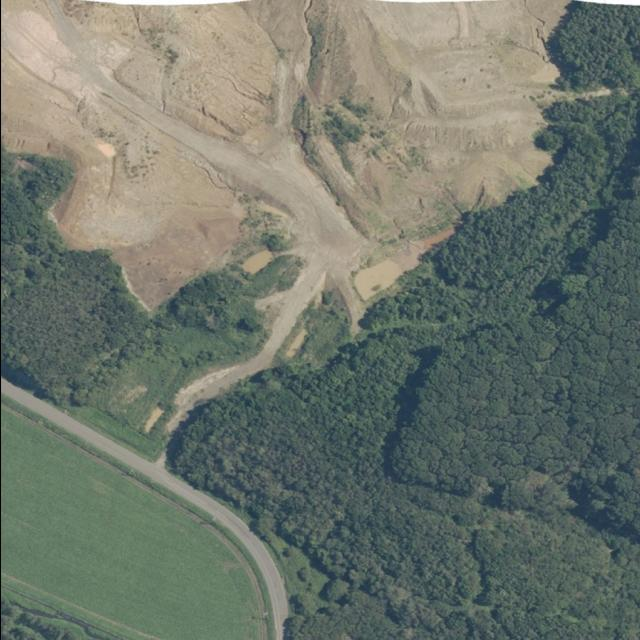landslide: (1, 0, 565, 399)
